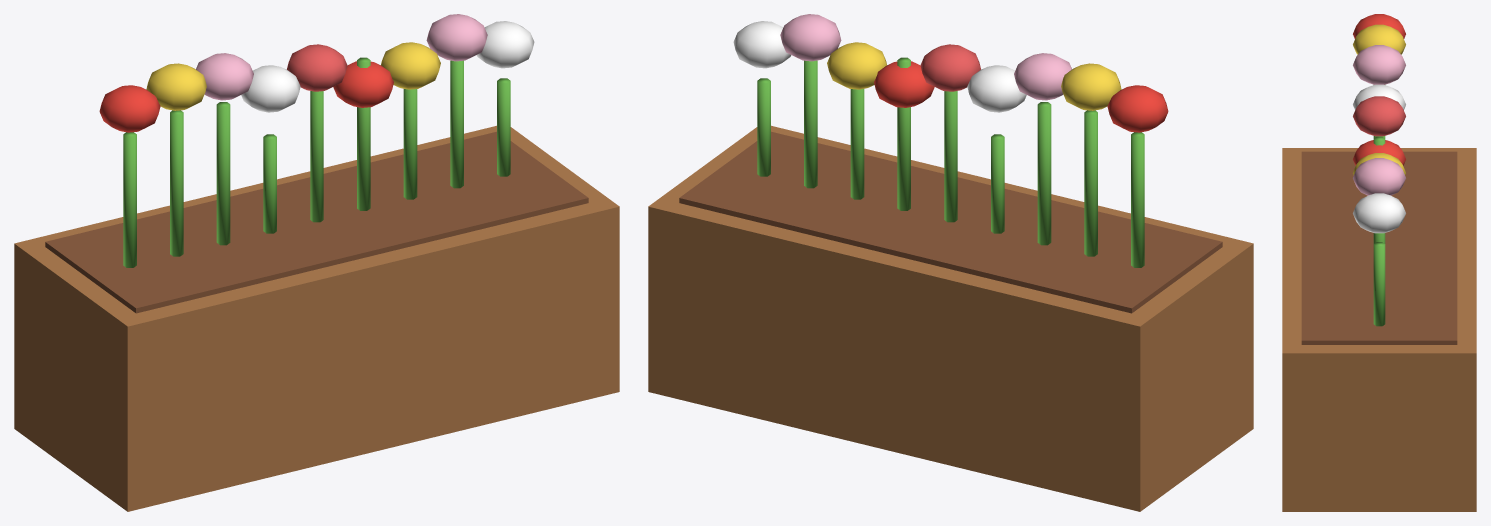
Rendered from planter.glb.
3 renders of one model, left to right at view 1: azimuth 30°, elevation 25°; view 2: azimuth 150°, elevation 25°; view 3: azimuth 270°, elevation 25°, orthographic. The views are drawn at different scales.
Parts seen in each view (by area): view 1: PlanterMesh; view 2: PlanterMesh; view 3: PlanterMesh.
Part boxes in pixels (left/top/right/bottom): PlanterMesh: left=14, top=14, right=619, bottom=511; PlanterMesh: left=648, top=14, right=1253, bottom=511; PlanterMesh: left=1282, top=14, right=1476, bottom=511.
Size of the model in its own units: 1 by 0.7327 by 0.4.
